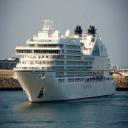cruises: (13, 20, 119, 106)
